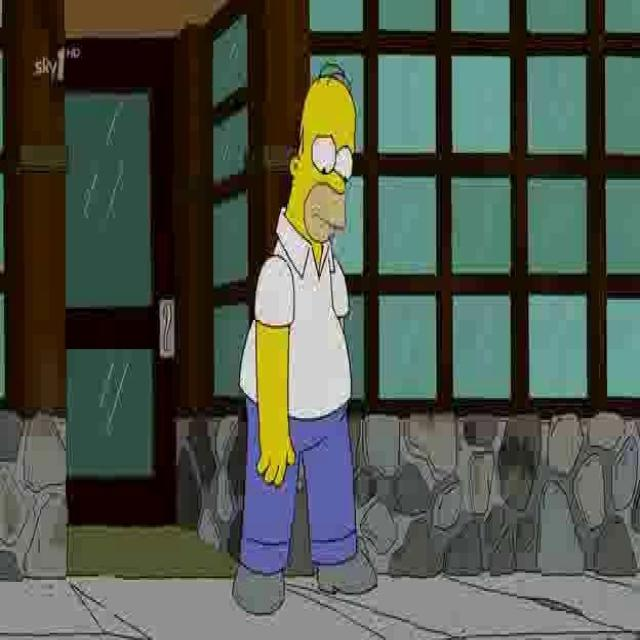Homer Simpson: (283, 62, 359, 254)
